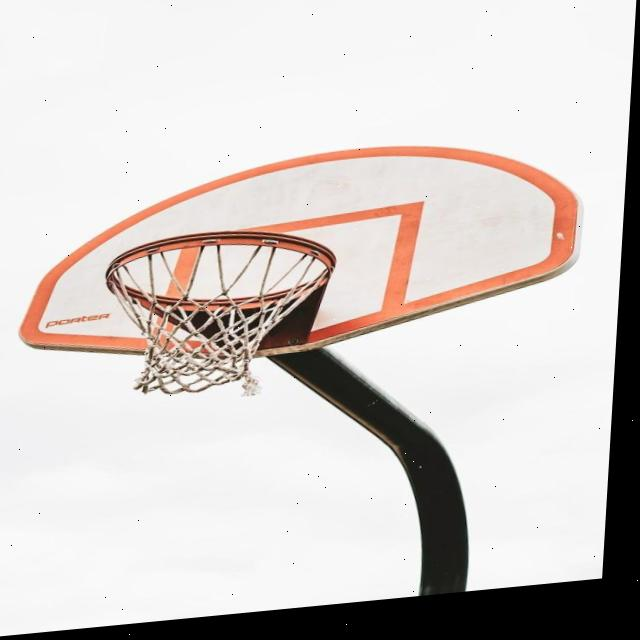hoop: (93, 206, 371, 420)
